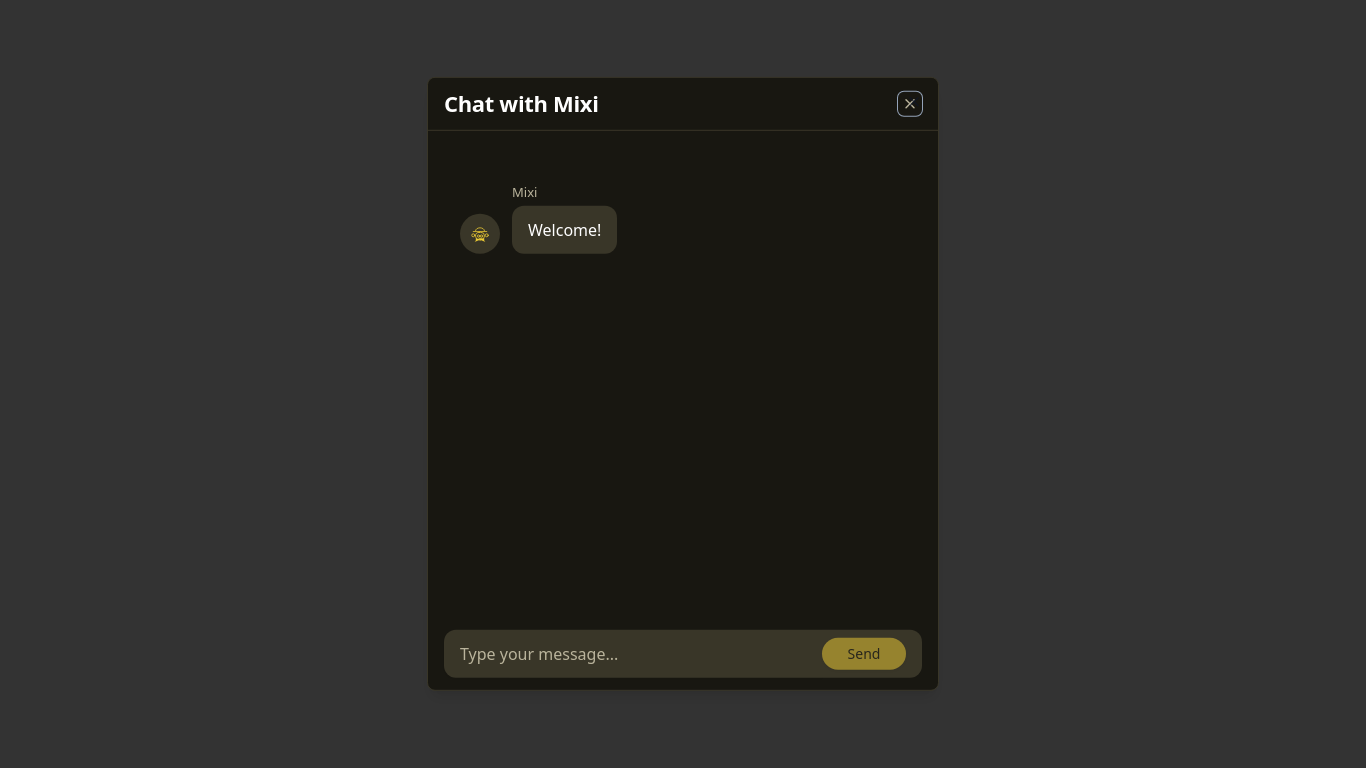
Test: MixiChat Streaming Tests › Streaming chunk handling and accumulation › should accumulate streaming chunks in order
In the field with test id "mixi-chat-input": x=633, y=654 left=444, top=630, right=822, bottom=678, type "Test message"
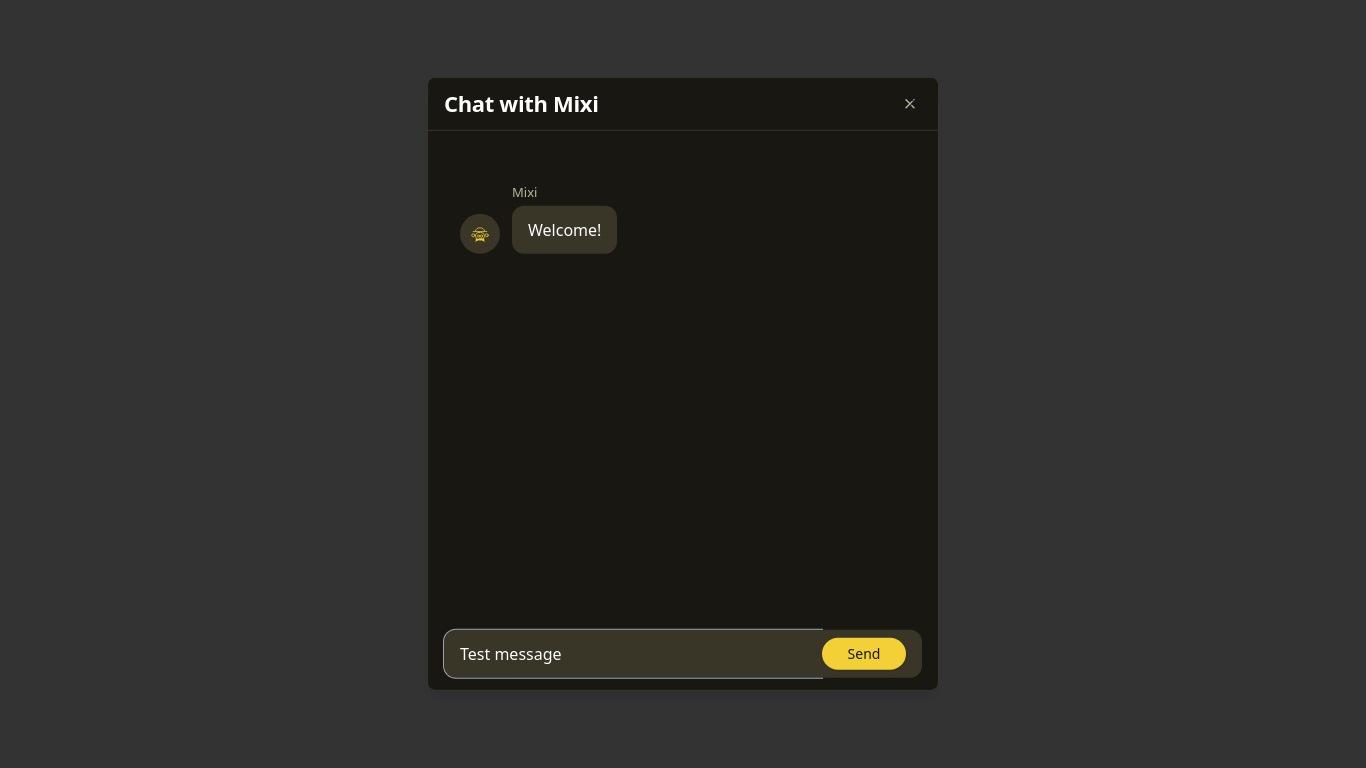
Click the button with test id "mixi-chat-send-button": x=864, y=654 left=822, top=638, right=906, bottom=670
Wait 100 ms
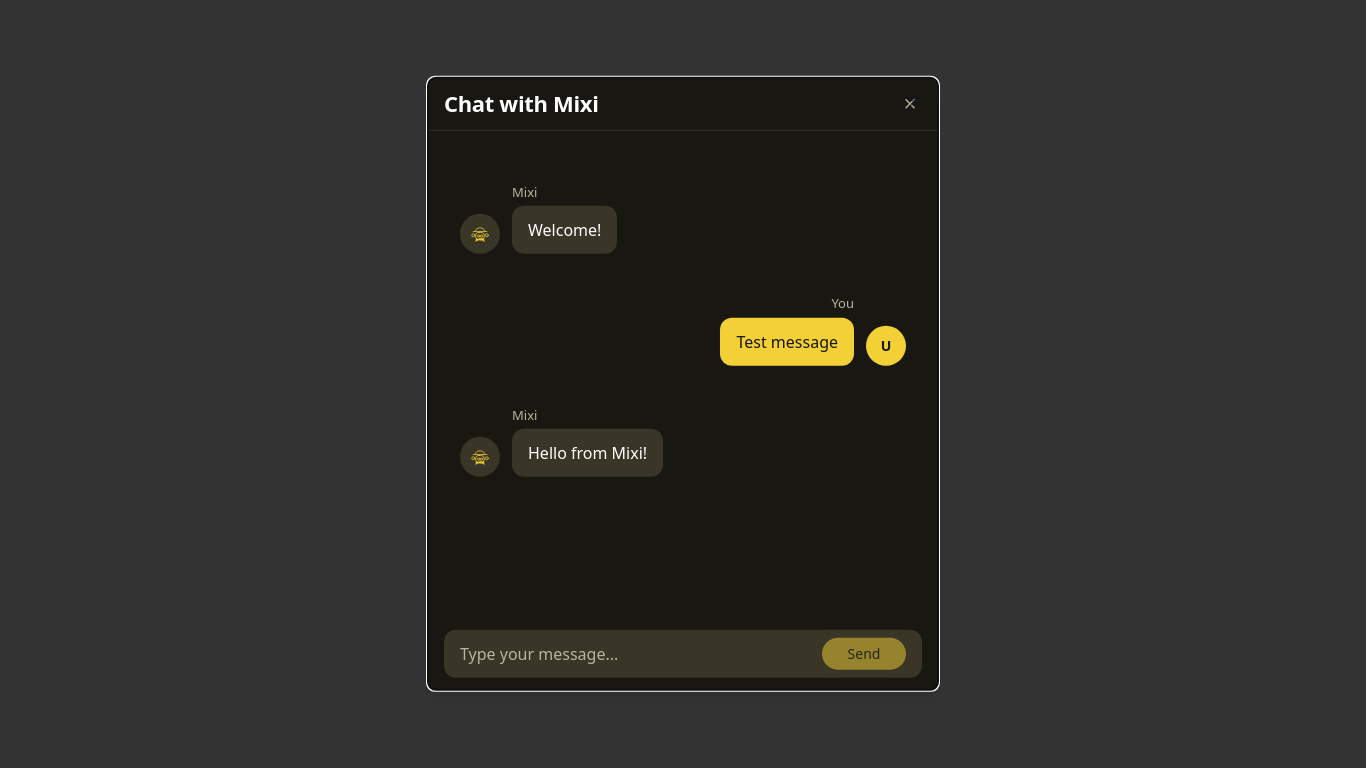
Expected: the element with test id "mixi-chat-messages" shows "Hello from Mixi!", left=528, top=442, right=647, bottom=464
